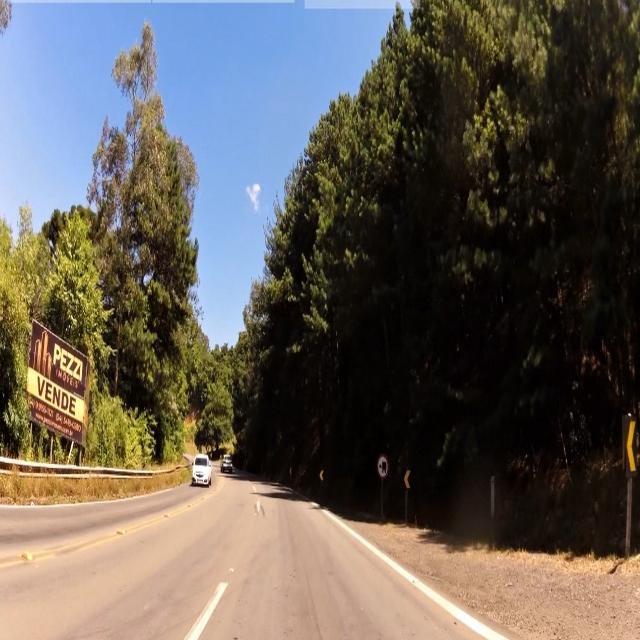Del: (404, 468, 414, 490)
R-27: (378, 456, 390, 479)
